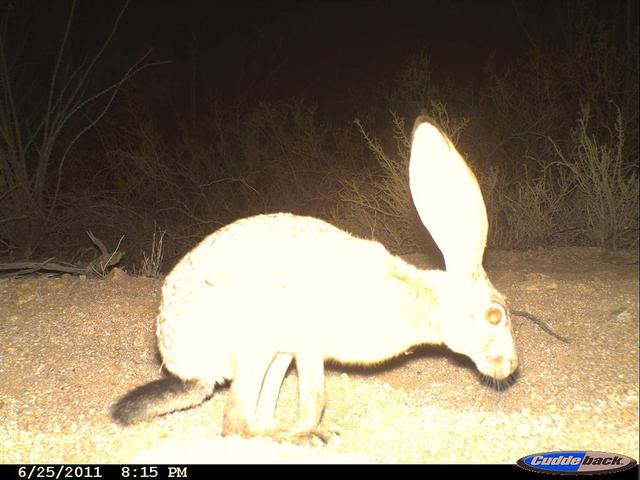rabbit: (61, 181, 554, 434)
